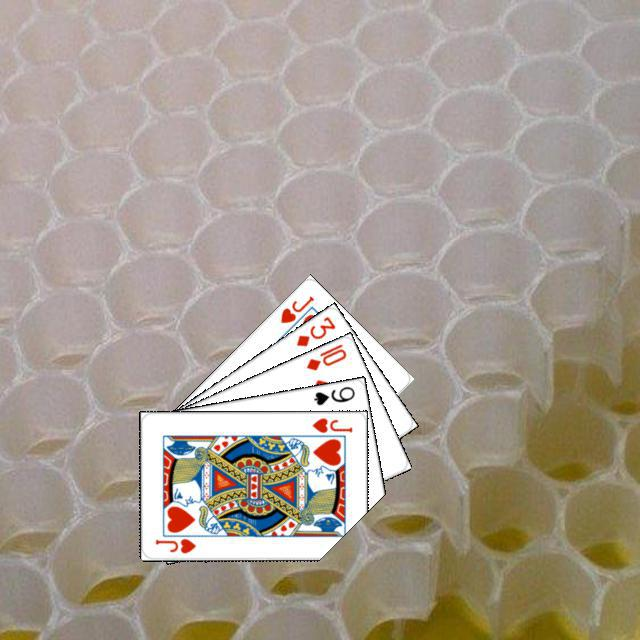10d: (301, 339, 348, 372)
3d: (291, 311, 337, 348)
9s: (309, 381, 356, 407)
Jh: (275, 291, 316, 325), (307, 413, 354, 434), (151, 534, 197, 555)
